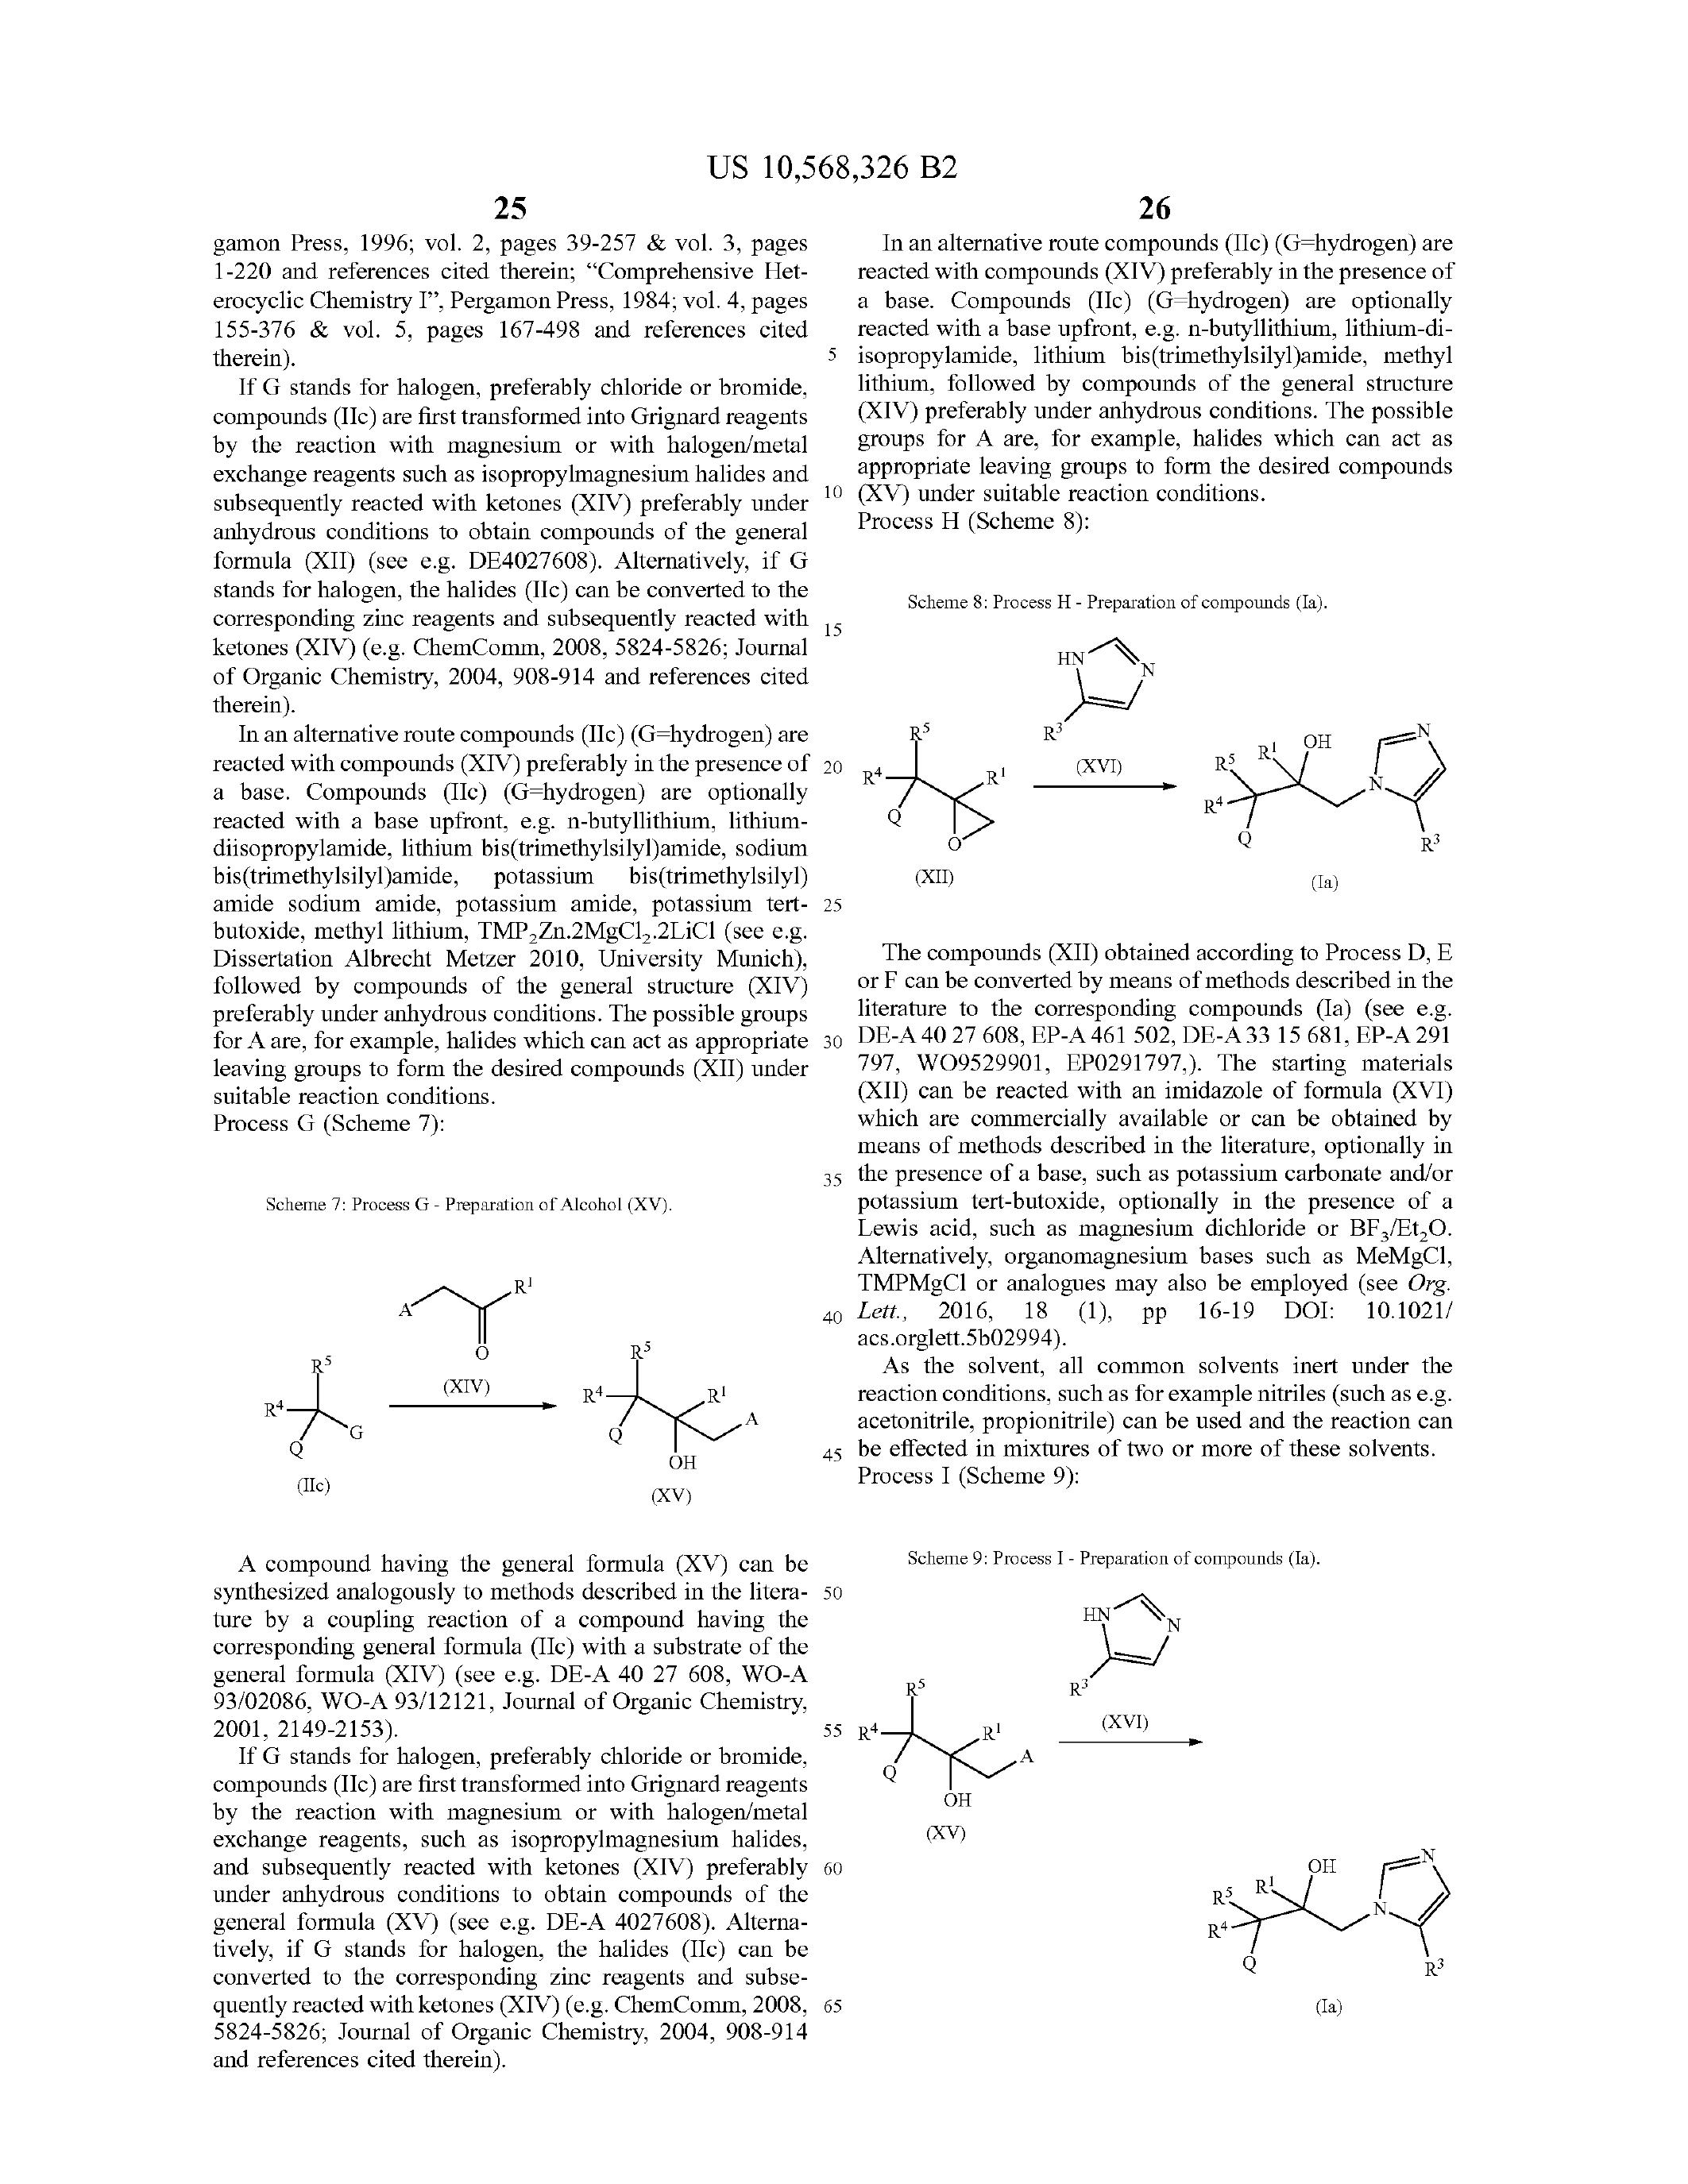reactions: (856, 1556, 1486, 2037), (860, 608, 1461, 881), (246, 1227, 757, 1542)
